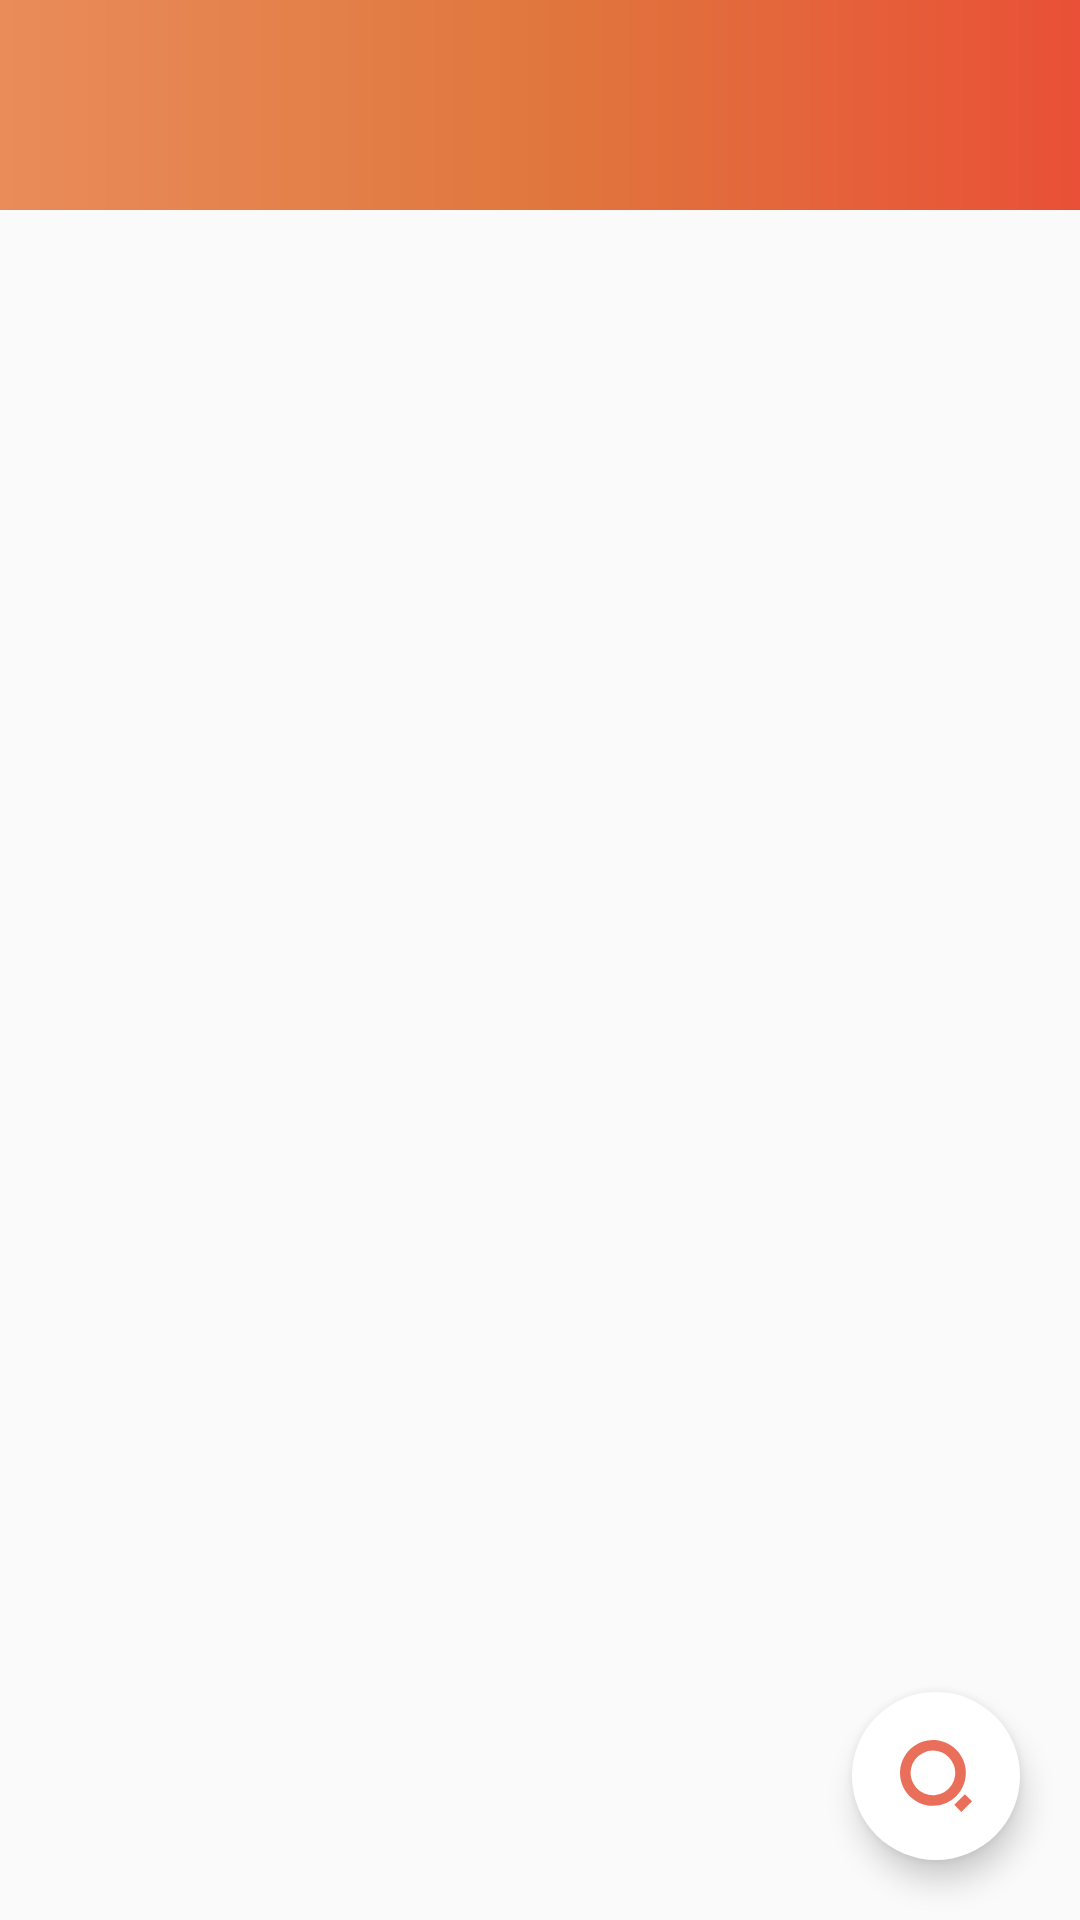

Named icons in this screenshot (1080*1920) and their bounding boxes, (x1, y1, x2, y2):
search: (856, 1740, 972, 1812)
